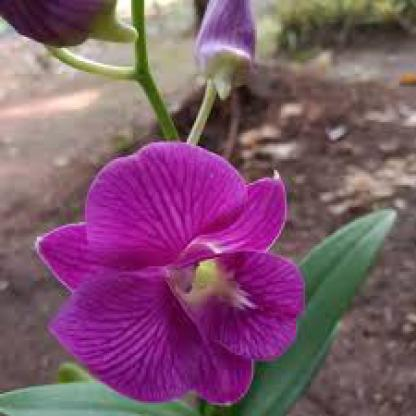ANGGREK: (70, 123, 325, 413)
